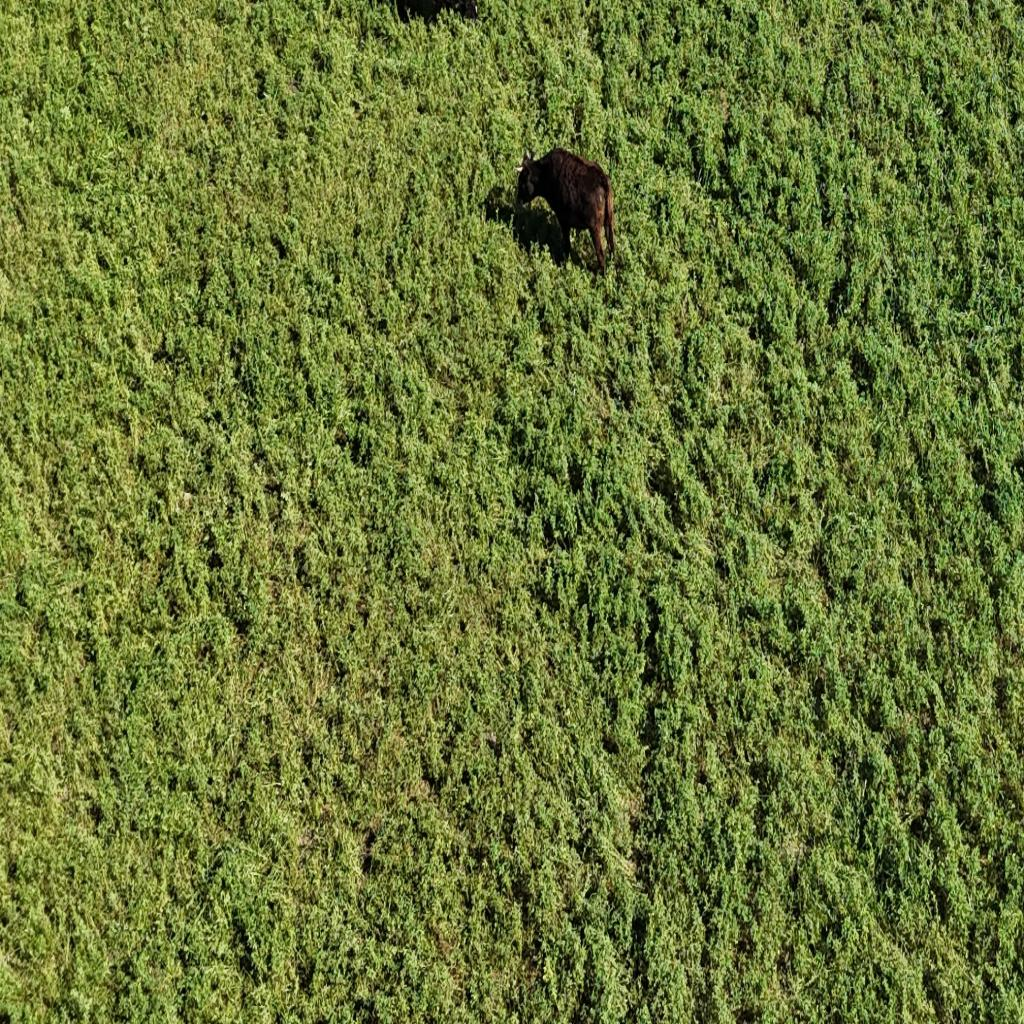cow: (509, 140, 622, 276)
